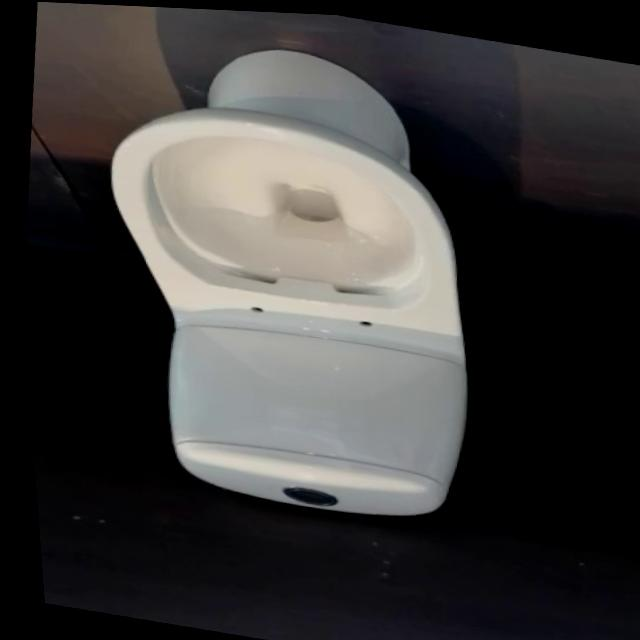toilet: (59, 19, 508, 532)
